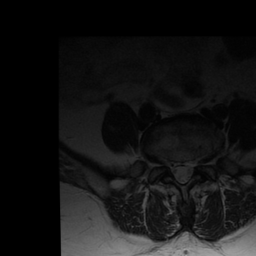CCS_normal: (177, 150, 186, 192)
LFS_normal: (194, 147, 202, 173)
LLS_normal: (186, 150, 194, 185)
RFS_normal: (162, 149, 170, 172)
RLS_normal: (170, 151, 177, 185)
